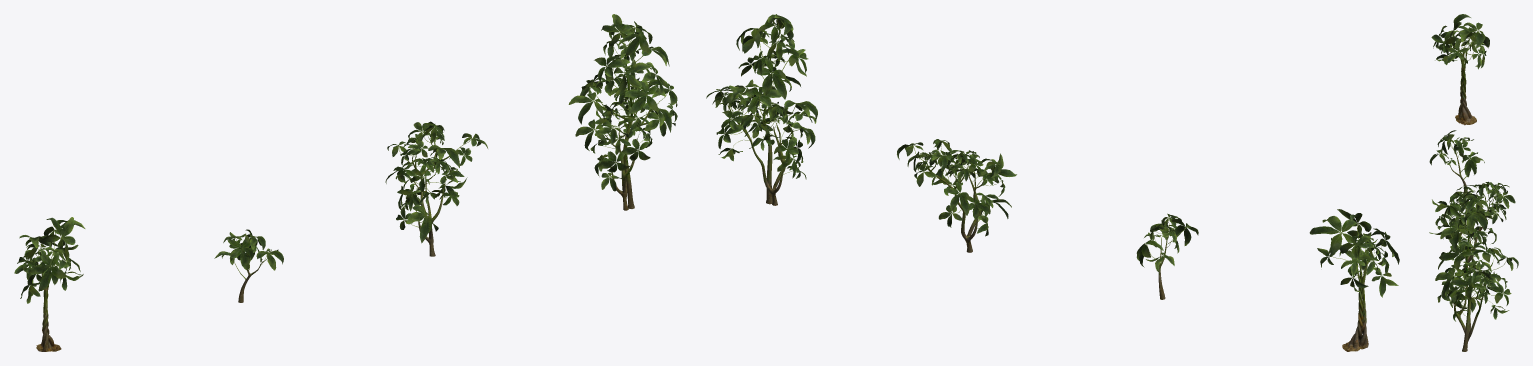
The model's file is pachira_aquatica_01.glb.
3 views of the same model, side by side, from view 1: azimuth 30°, elevation 25°; view 2: azimuth 150°, elevation 25°; view 3: azimuth 270°, elevation 25° (orthographic). The views are drawn at different scales.
Parts seen in each view (by area): view 1: pachira_aquatica_01_leaves_a, pachira_aquatica_01_bark_a; view 2: pachira_aquatica_01_leaves_a, pachira_aquatica_01_bark_a; view 3: pachira_aquatica_01_leaves_a, pachira_aquatica_01_bark_a.
Boxes of the visible parts, <box> form: pachira_aquatica_01_leaves_a: <box>14,14,677,303</box>; pachira_aquatica_01_bark_a: <box>36,44,652,351</box>; pachira_aquatica_01_leaves_a: <box>706,14,1399,297</box>; pachira_aquatica_01_bark_a: <box>728,44,1368,351</box>; pachira_aquatica_01_leaves_a: <box>1429,14,1518,321</box>; pachira_aquatica_01_bark_a: <box>1447,50,1497,351</box>.
Size of the model in its own units: 6.87 by 1.9 by 0.997.
2 materials, 2 textured.
